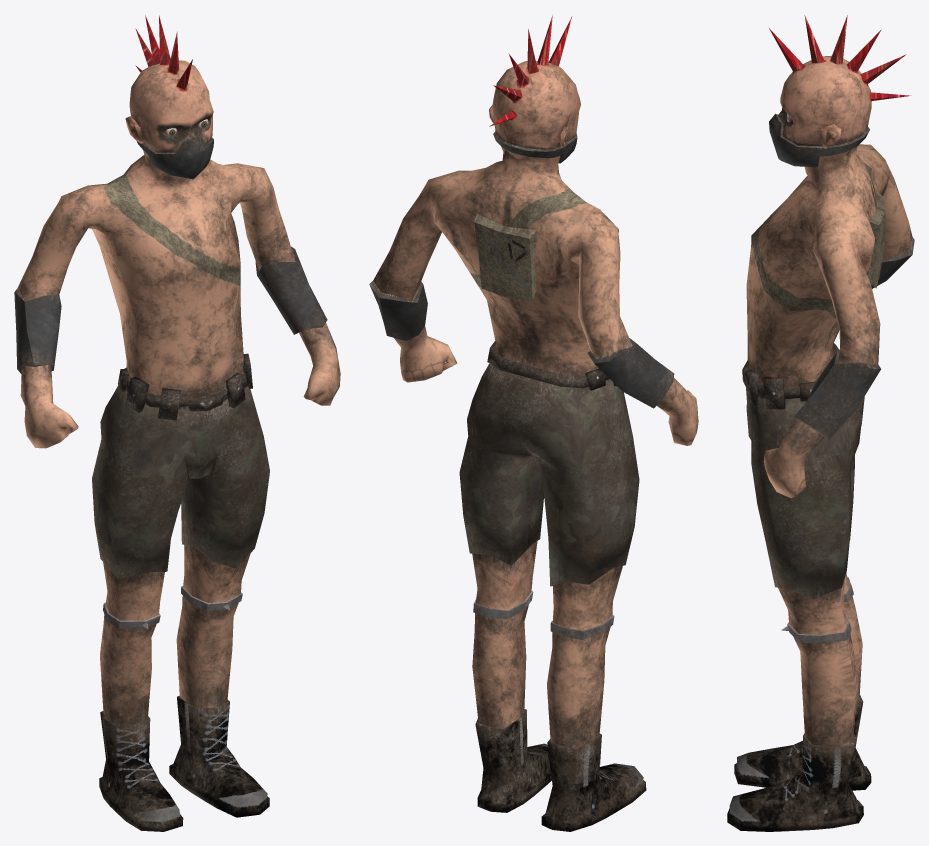
File: Anim_ataque_d2_npc2.0011.obj
3 views of the same model, side by side, from view 1: azimuth 30°, elevation 25°; view 2: azimuth 150°, elevation 25°; view 3: azimuth 270°, elevation 25° (orthographic). The views are drawn at different scales.
Parts seen in each view (by area): view 1: polySurface1; view 2: polySurface1; view 3: polySurface1.
Boxes of the visible parts, <box> form: polySurface1: <box>14,15,340,831</box>; polySurface1: <box>369,15,698,831</box>; polySurface1: <box>727,15,914,831</box>.
Bounding box in the file's own units: 4.17 × 10.16 × 2.19.
Materials: 2 (2 with a texture image).
